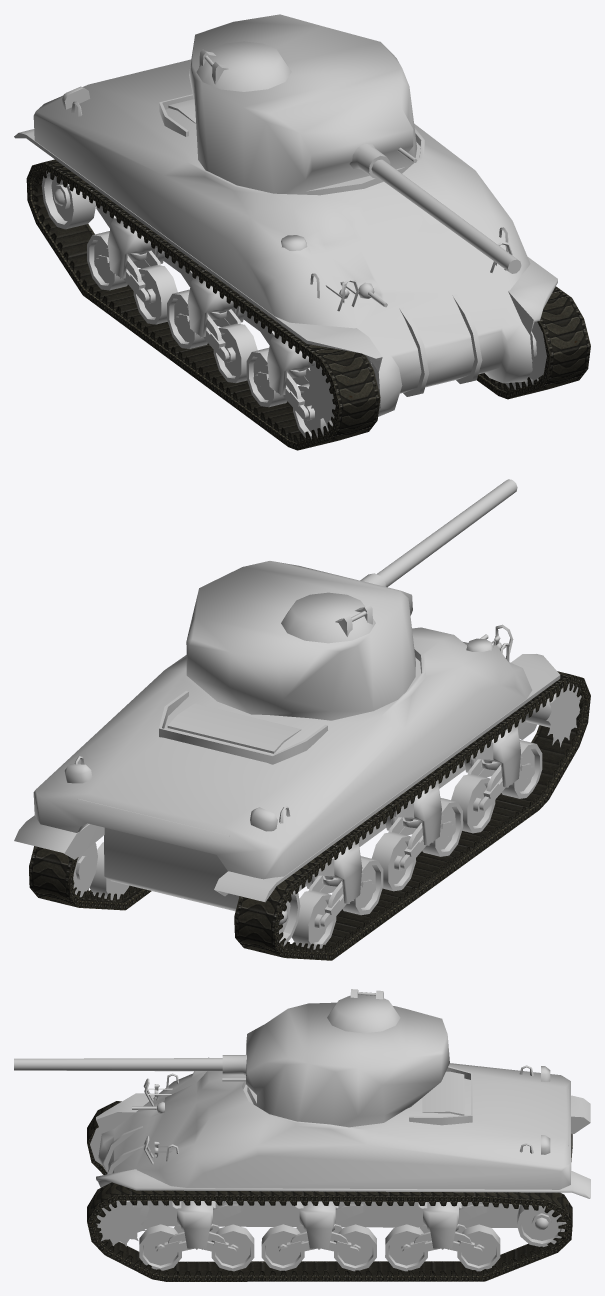
File: US_sher_tank.FBX
The picture shows the model from 3 angles, top to bottom: view 1: azimuth 30°, elevation 25°; view 2: azimuth 150°, elevation 25°; view 3: azimuth 270°, elevation 25°; orthographic projection. The views are drawn at different scales.
Parts seen in each view (by area): view 1: sher_body_LOD0, sher_turret_LOD0, sher_cater_LOD0; view 2: sher_body_LOD0, sher_turret_LOD0, sher_cater_LOD0; view 3: sher_body_LOD0, sher_turret_LOD0, sher_cater_LOD0.
Boxes of the visible parts, x1,y1,x2,y2 form: sher_body_LOD0: (14,59,557,439); sher_turret_LOD0: (189,14,521,273); sher_cater_LOD0: (26,159,590,450); sher_body_LOD0: (14,624,581,949); sher_turret_LOD0: (186,479,517,720); sher_cater_LOD0: (29,671,590,960); sher_body_LOD0: (90,1057,590,1271); sher_turret_LOD0: (14,989,449,1127); sher_cater_LOD0: (87,1101,572,1281).
Size of what is drawn, in the model's own units: 26.19 by 27.88 by 67.02.
